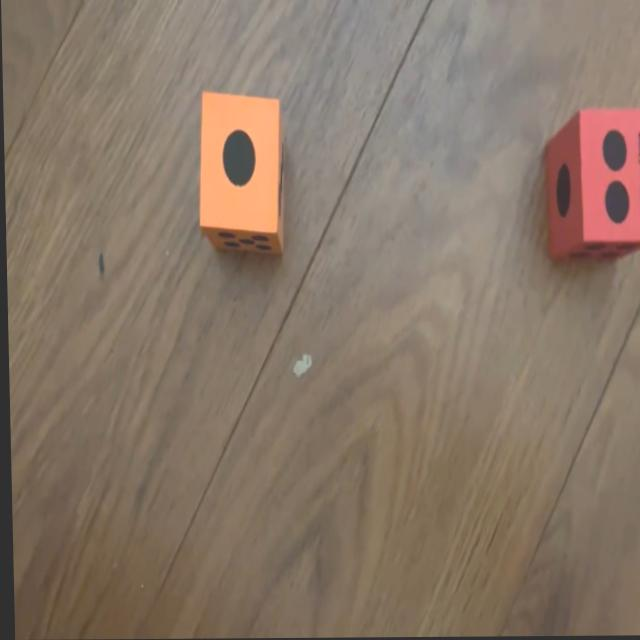red_block: (545, 105, 640, 260)
